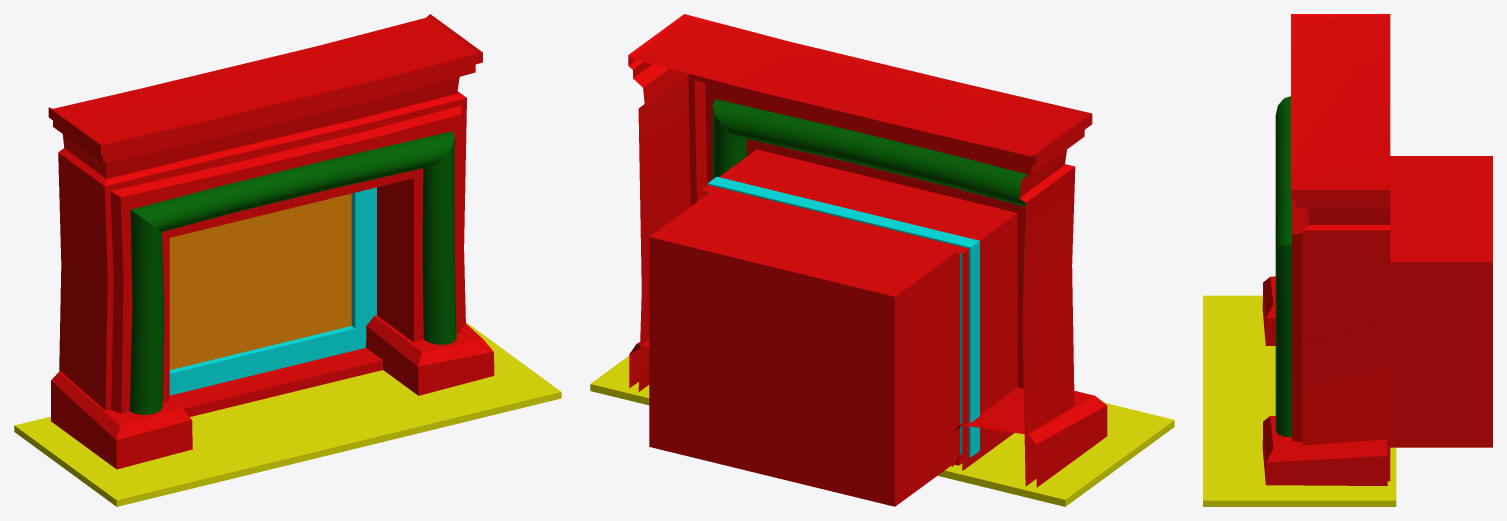
The model's file is LR_Fireplace.fbx.
3 renders of one model, left to right at view 1: azimuth 30°, elevation 25°; view 2: azimuth 150°, elevation 25°; view 3: azimuth 270°, elevation 25°, orthographic. The views are drawn at different scales.
Visible parts, largest first — view 1: LR_Fireplace; view 2: LR_Fireplace; view 3: LR_Fireplace.
Part boxes in pixels (left/top/right/bottom): LR_Fireplace: left=14, top=14, right=561, bottom=506; LR_Fireplace: left=590, top=14, right=1174, bottom=506; LR_Fireplace: left=1203, top=14, right=1492, bottom=506.
Bounding box in the file's own units: 270 × 186 × 161.
